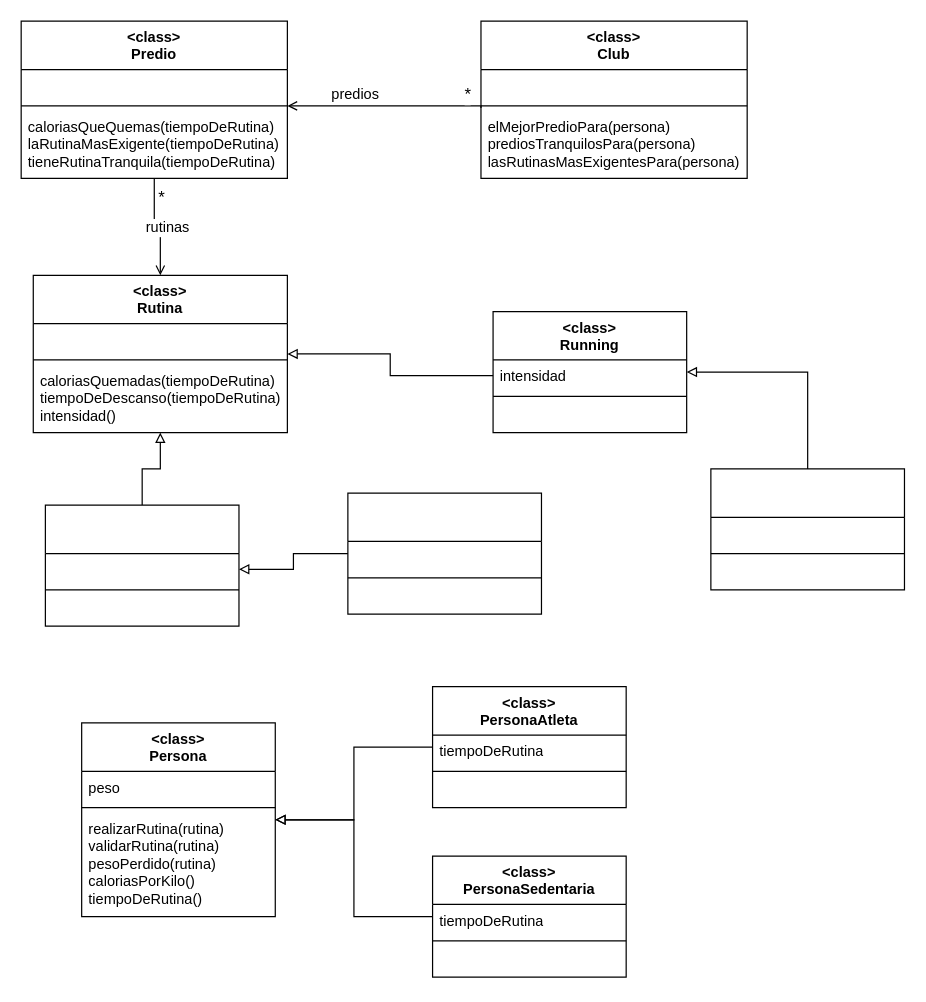
Image size: 926x1002. Some labels were removed from this diagram. The centre of each missing label's shape, as x and y in pixels:
<class> Maraton: the point at 807,529
<class> Remo: the point at 141,565
<class> RemoDeCompeticion: the point at 444,553
